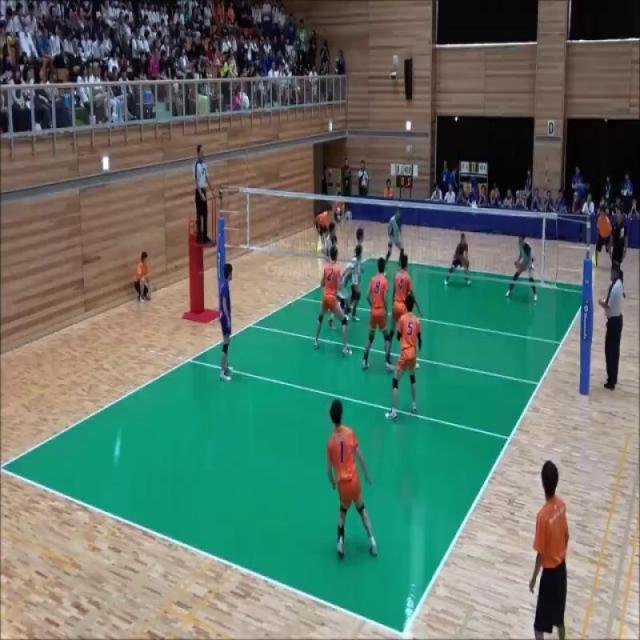volleyball: (470, 200, 478, 215)
